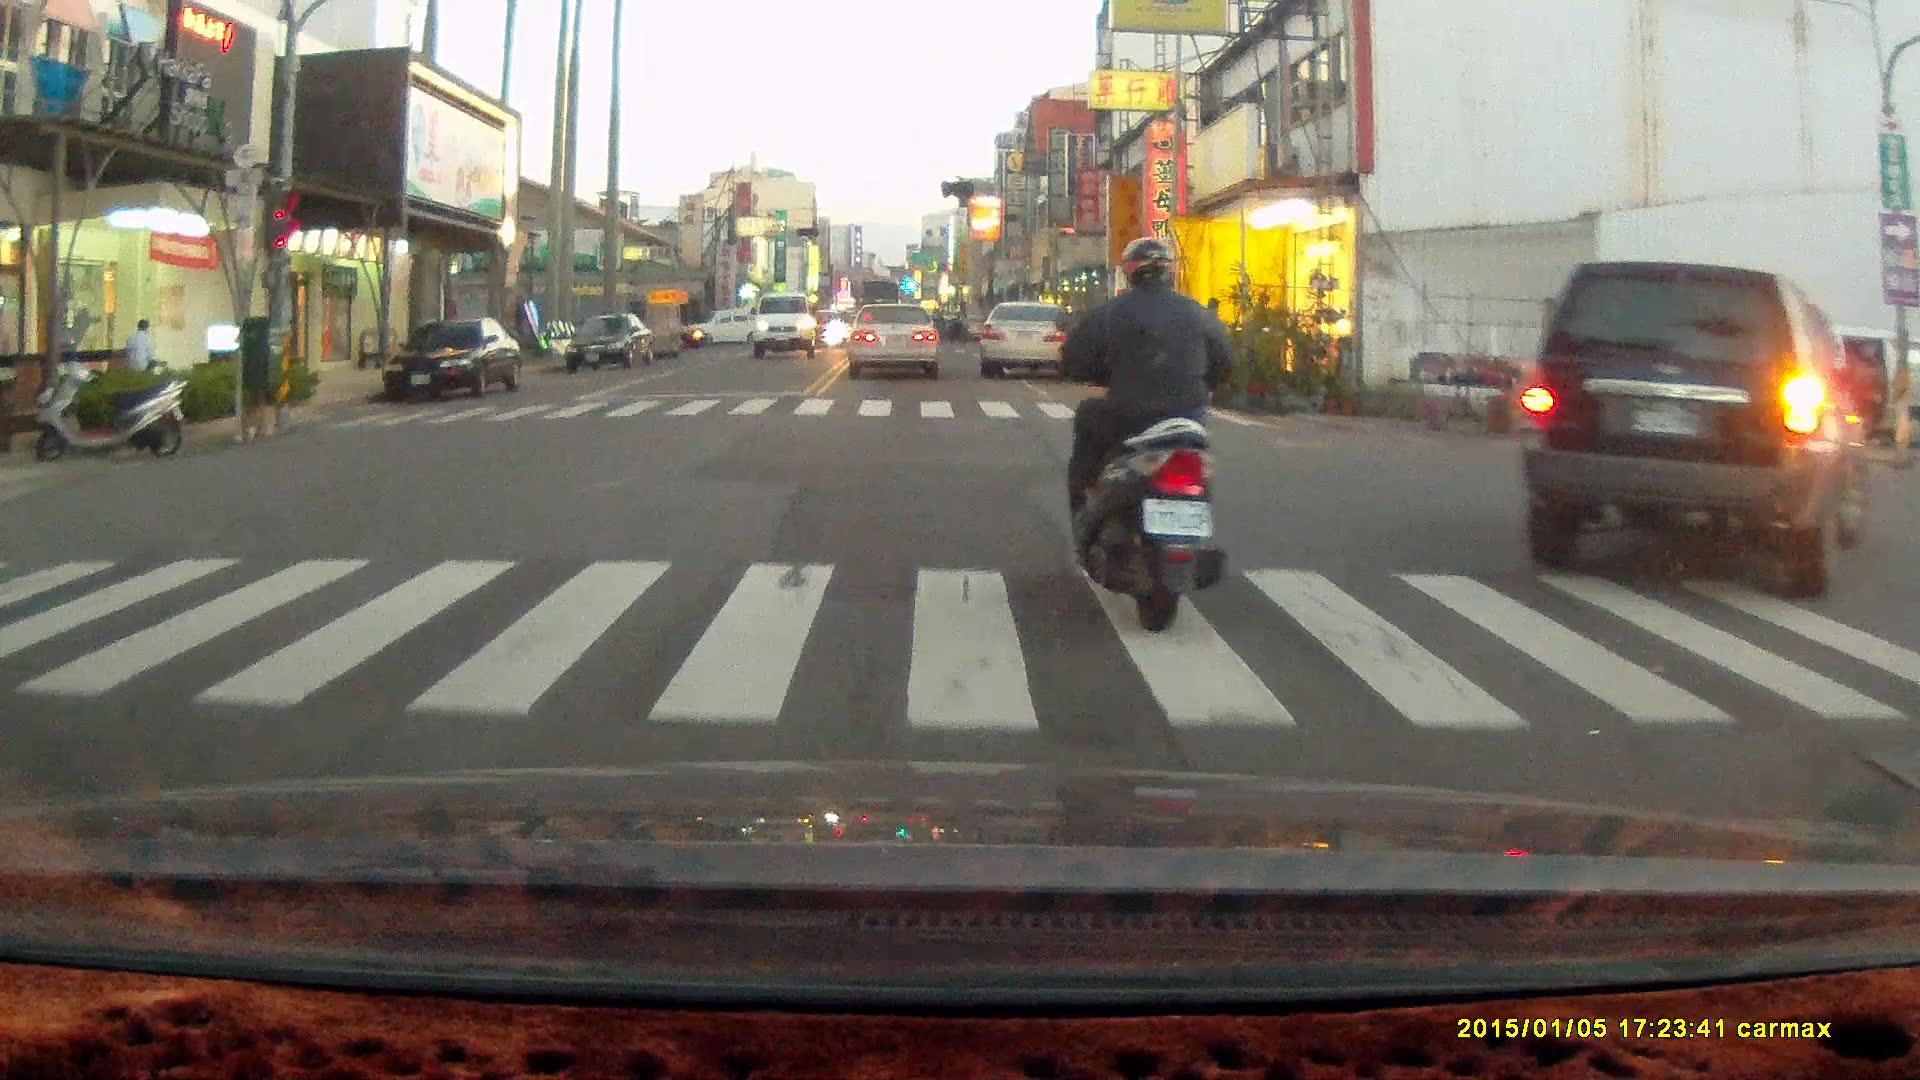pedestrian: (123, 314, 160, 383), (1861, 346, 1886, 437)
rider: (1054, 231, 1229, 627)
vehicle: (1516, 266, 1856, 595), (1757, 326, 1920, 454), (385, 313, 520, 407), (977, 298, 1085, 381), (847, 302, 942, 376), (564, 310, 655, 372), (754, 290, 820, 358)
